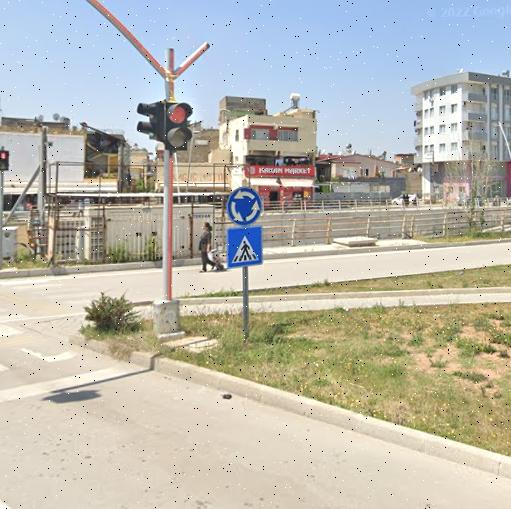crossroads: (224, 187, 266, 227)
redlight: (165, 101, 191, 147)
